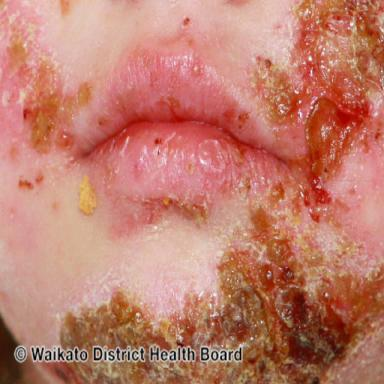Impetigo: (50, 0, 384, 384), (0, 0, 93, 196)
